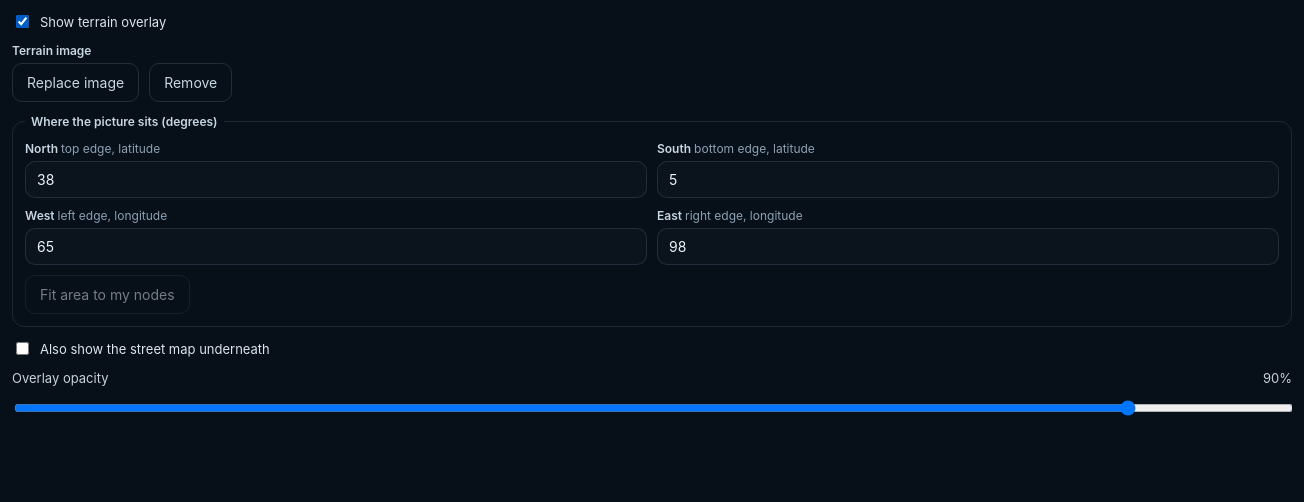
it: TerrainMapControl › an empty or impossible edge shows a message and is NOT passed on to the map
Clear the number field labelled "North top edge, latitude": (336, 180) [25,161,647,198]
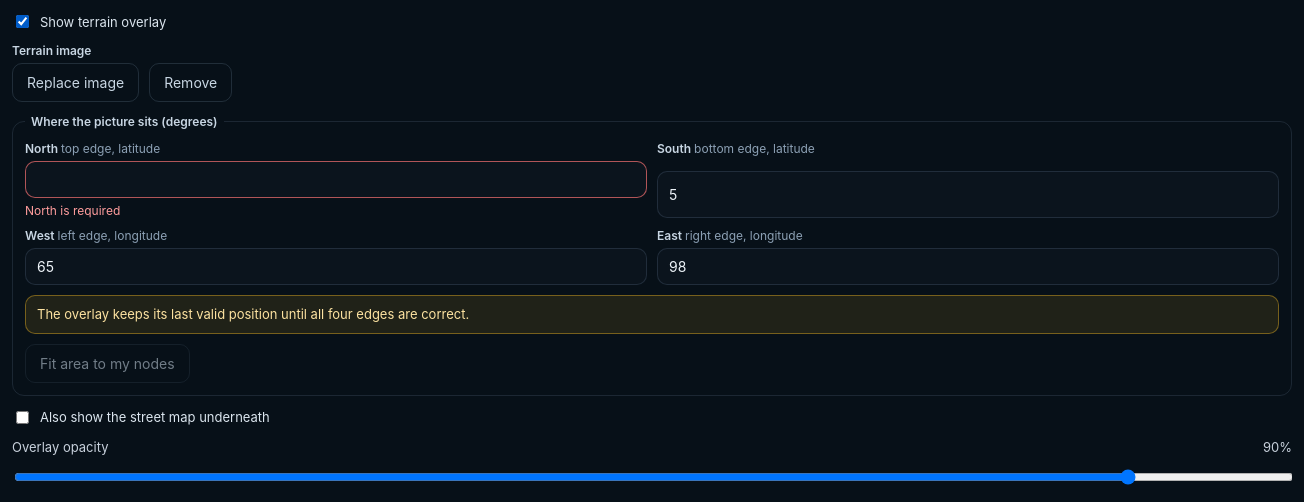
Result: the text "North is required" is shown at [25,203,120,218]
Result: the text "keeps its last valid position" is shown at [37,306,469,322]
In the number field labelled "North top edge, latitude": (336, 180) [25,161,647,198], type "2"
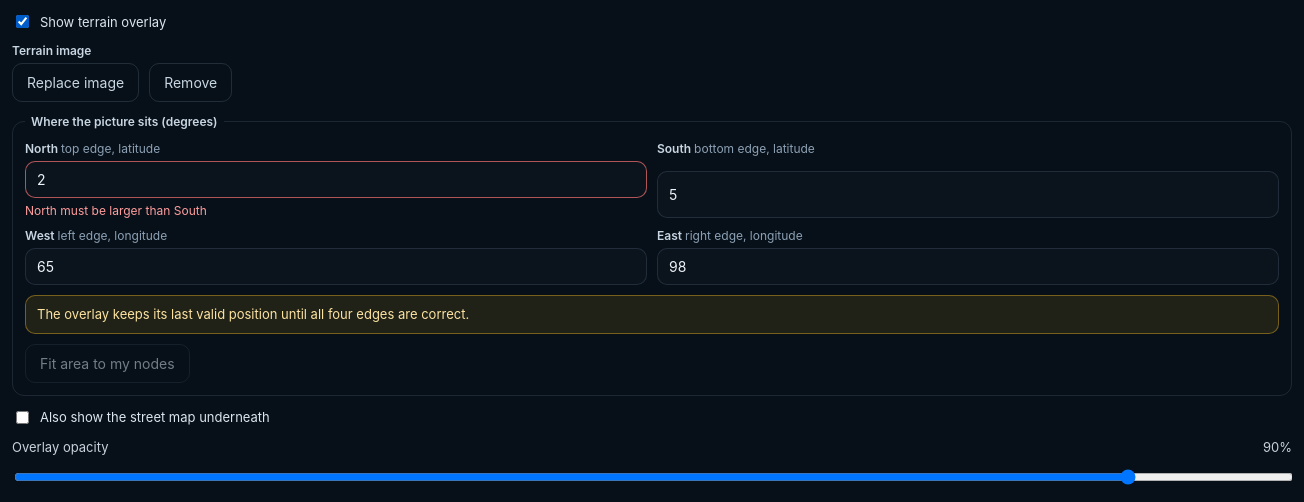
Result: the text "North must be larger than South" is shown at [25,203,207,218]
Replace the text in the number field labelled "North top edge, latitude" with "95": (336, 180) [25,161,647,198]
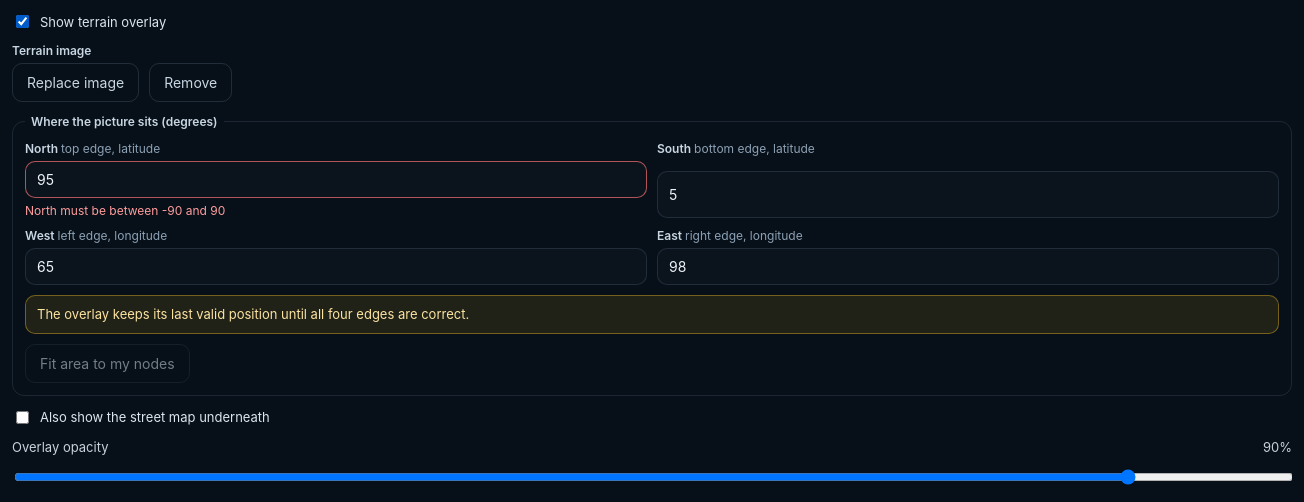
Result: the text "North must be between -90 and 90" is shown at [25,203,225,218]
